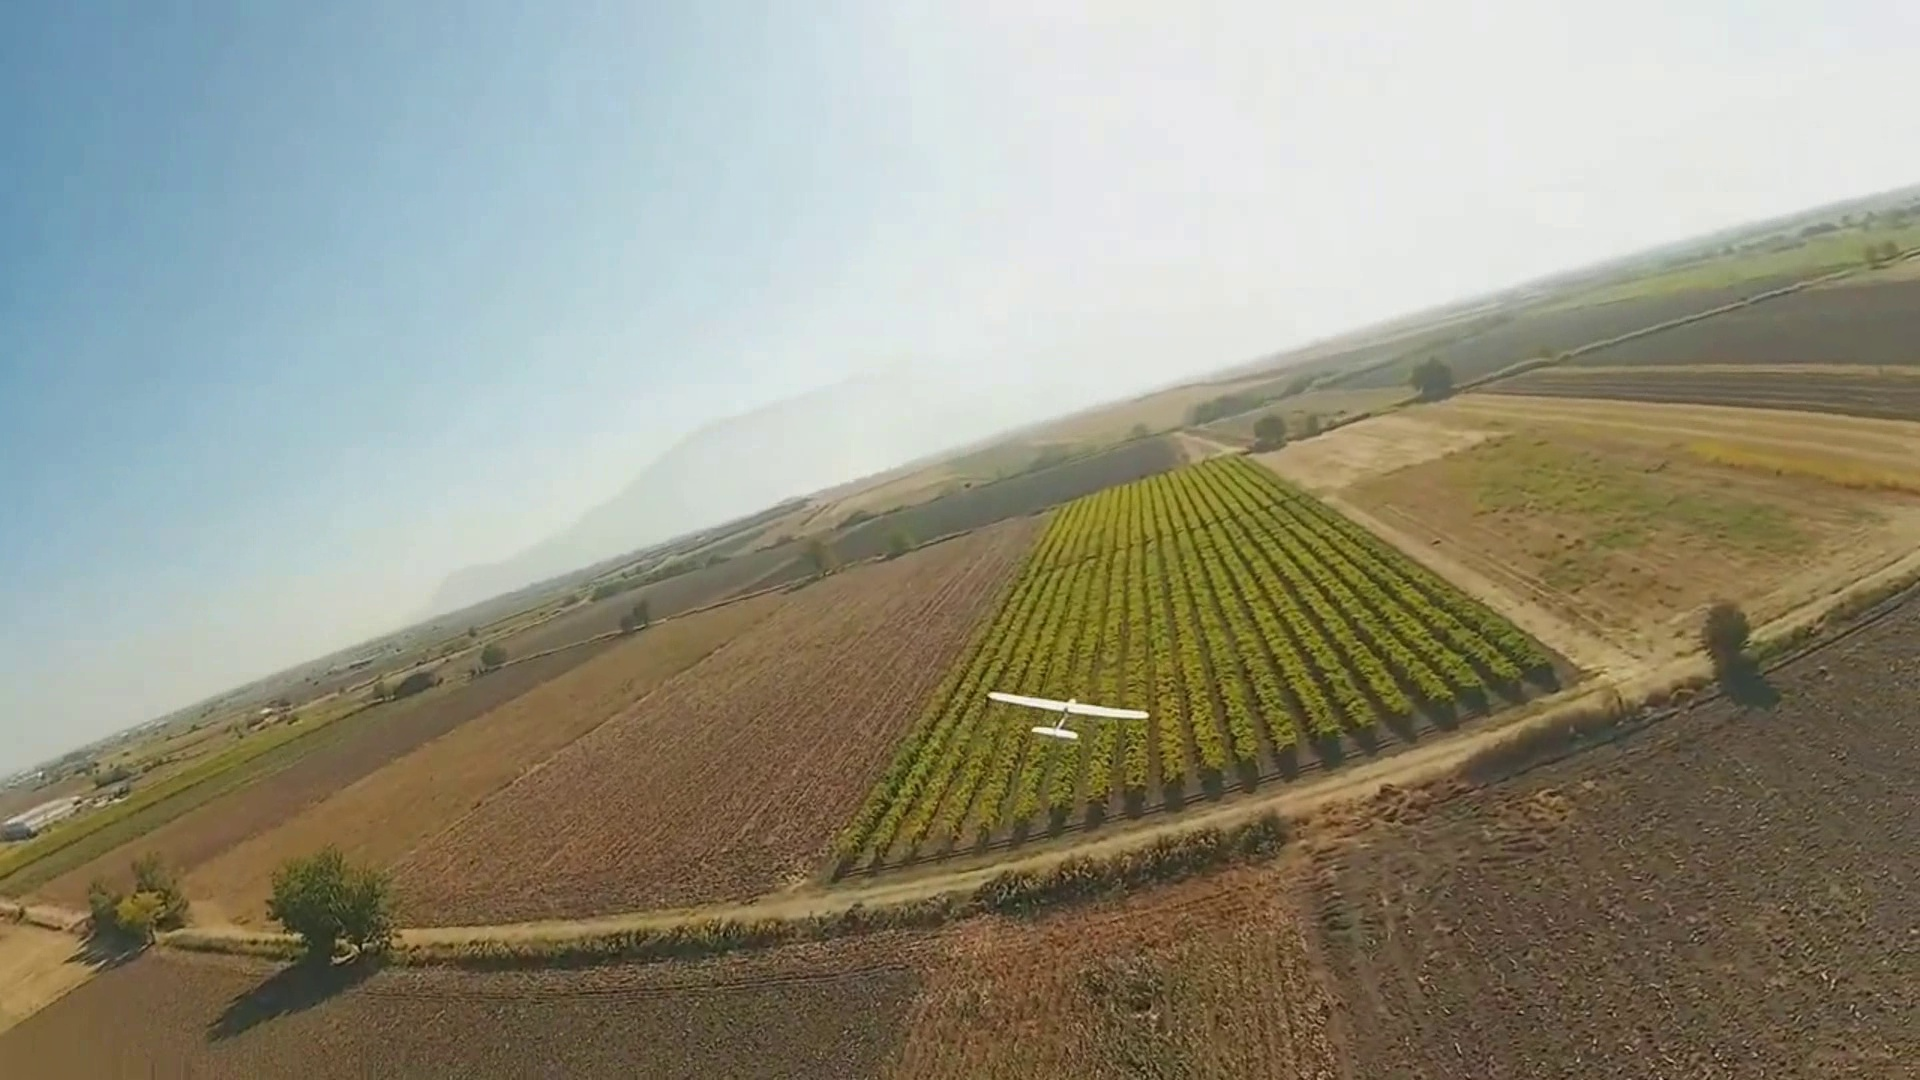airplane: (18, 202, 1917, 818)
